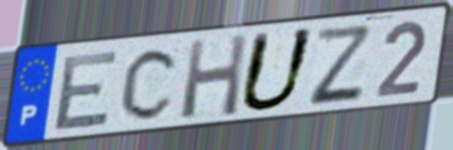2: (372, 18, 429, 100)
C: (117, 44, 183, 123)
E: (50, 47, 122, 134)
H: (178, 31, 250, 122)
U: (235, 26, 319, 115)
Z: (307, 22, 372, 108)
